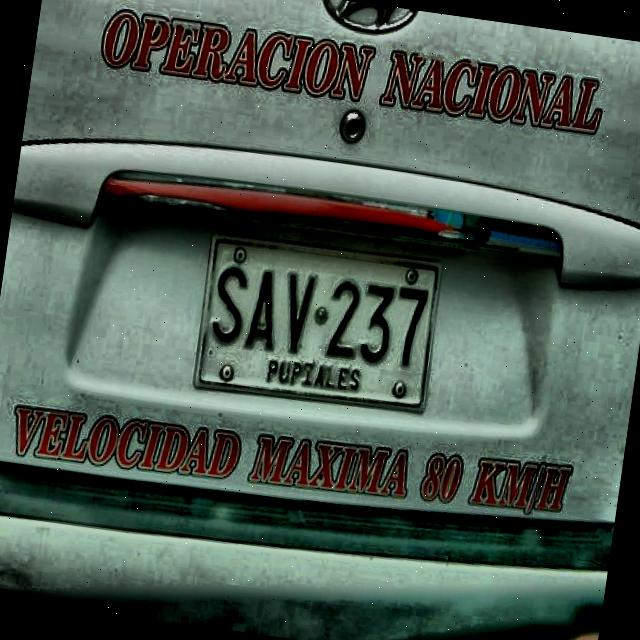plate: (197, 238, 440, 409)
